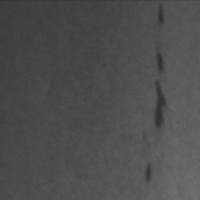inclusion: (149, 78, 171, 131), (152, 48, 169, 76), (140, 160, 158, 185), (154, 1, 166, 29)
